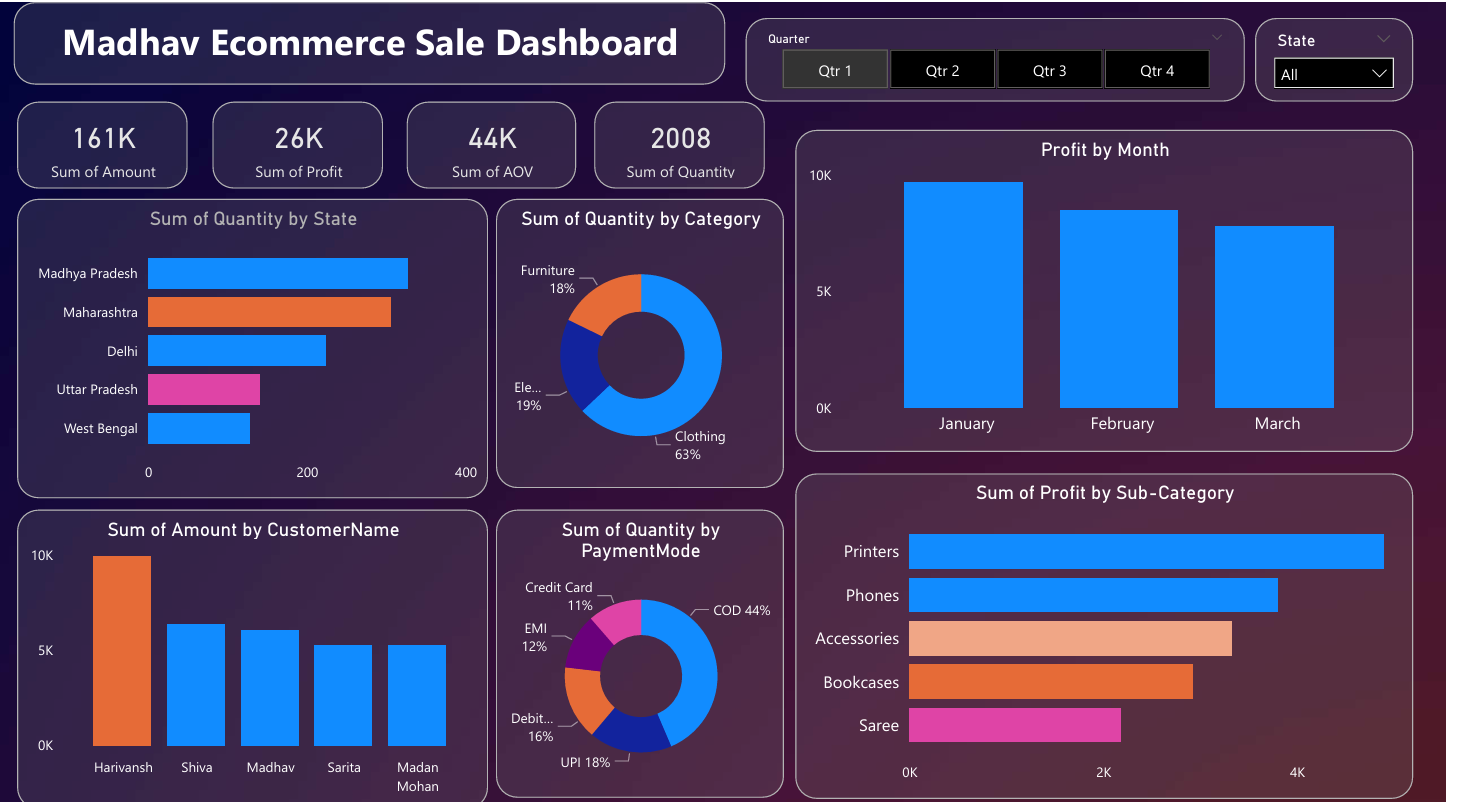

What the dashboard file says about the page in this screenshot:
{"tool":"powerbi","page":{"name":"Page 1","canvas":[1280,720],"ordinal":0},"visuals":[{"type":"textbox","box":[12,0,629.8,73],"z":0},{"type":"columnChart","title":"Profit by Month","fields":{"Y":["Details.Profit"],"Category":["Orders.Order Date.Variation.Date Hierarchy.Month"]},"box":[703.9,112.5,547.5,285.4],"z":1000},{"type":"barChart","fields":{"Category":["Details.Sub-Category"],"Y":["Details.Profit"]},"box":[703.9,417.2,547.5,288.2],"z":2000},{"type":"donutChart","fields":{"Category":["Details.Category"],"Y":["Details.Quantity"]},"box":[439.1,174.3,255.2,255.2],"z":3000},{"type":"donutChart","fields":{"Y":["Details.Quantity"],"Category":["Details.PaymentMode"]},"box":[439.1,448.7,255.2,255.2],"z":4000},{"type":"barChart","fields":{"Category":["Orders.State"],"Y":["Details.Quantity"]},"box":[15.1,174.3,417.2,264.8],"z":5000},{"type":"card","fields":{"Values":["Details.Amount"]},"box":[15.1,87.8,150.9,76.8],"z":6000},{"type":"card","fields":{"Values":["Details.Quantity"]},"box":[525.6,87.8,150.9,76.8],"z":7000},{"type":"card","fields":{"Values":["Details.Profit"]},"box":[188,87.8,150.9,76.8],"z":8000},{"type":"card","fields":{"Values":["Details.AOV"]},"box":[359.5,87.8,150.9,76.8],"z":9000},{"type":"columnChart","fields":{"Category":["Orders.CustomerName"],"Y":["Details.Amount"]},"box":[15.1,448.7,417.2,264.8],"z":10000},{"type":"slicer","fields":{"Values":["Orders.Order Date.Variation.Date Hierarchy.Quarter"]},"box":[660,13.7,441.9,74.1],"z":11000},{"type":"slicer","fields":{"Values":["Orders.State"]},"box":[1111.5,13.7,140,74.1],"z":12000}]}

Visuals, with their boxes in screenshot pixels (x1, y1, x2, y2), scaled from the page's 1280x720 canvas onto the 1457x802 screenshot:
textbox: locate(14, 0, 731, 81)
"Profit by Month" columnChart: locate(801, 125, 1424, 443)
barChart - Details.Sub-Category x Details.Profit: locate(801, 465, 1424, 786)
donutChart - Details.Category x Details.Quantity: locate(500, 194, 790, 478)
donutChart - Details.Quantity x Details.PaymentMode: locate(500, 500, 790, 784)
barChart - Orders.State x Details.Quantity: locate(17, 194, 492, 489)
card - Details.Amount: locate(17, 98, 189, 183)
card - Details.Quantity: locate(598, 98, 770, 183)
card - Details.Profit: locate(214, 98, 386, 183)
card - Details.AOV: locate(409, 98, 581, 183)
columnChart - Orders.CustomerName x Details.Amount: locate(17, 500, 492, 795)
slicer - Orders.Order Date.Variation.Date Hierarchy.Quarter: locate(751, 15, 1254, 98)
slicer - Orders.State: locate(1265, 15, 1425, 98)
